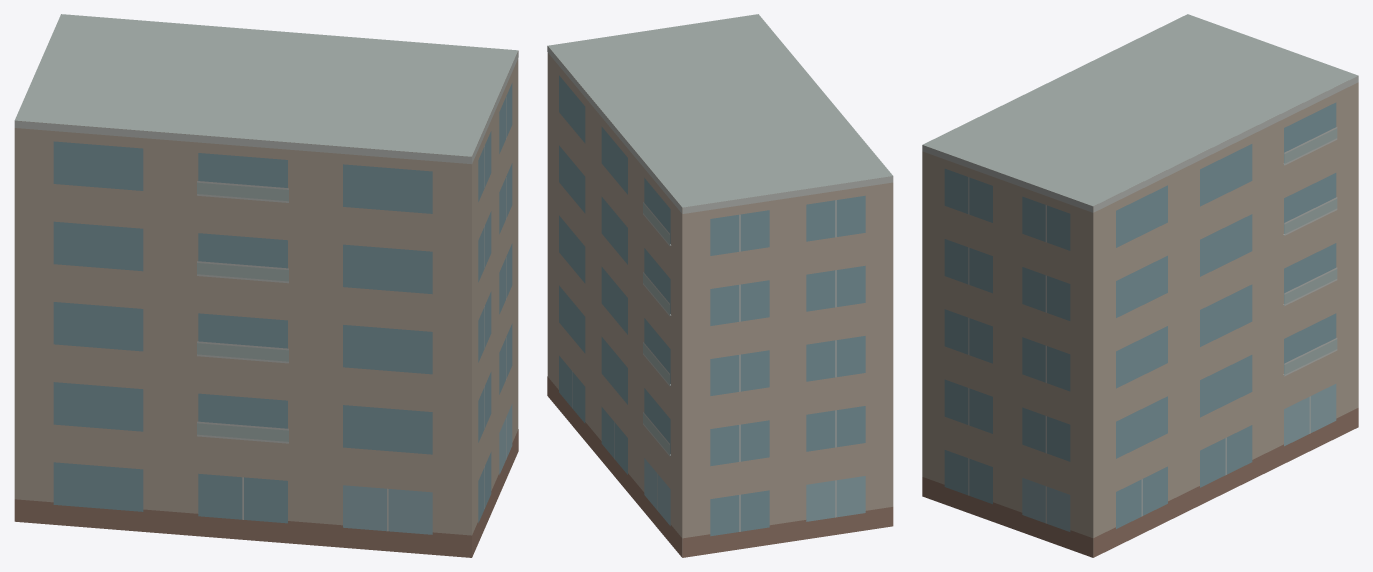
The model's file is survey-upis-32849473.glb.
3 views of the same model, side by side, from view 1: azimuth 30°, elevation 25°; view 2: azimuth 150°, elevation 25°; view 3: azimuth 270°, elevation 25° (orthographic). The views are drawn at different scales.
Parts seen in each view (by area): view 1: survey-upis-32849473.tmp; view 2: survey-upis-32849473.tmp; view 3: survey-upis-32849473.tmp.
Part boxes in pixels (x1,y1,x2,y2): survey-upis-32849473.tmp: (14,14,518,557); survey-upis-32849473.tmp: (547,14,893,557); survey-upis-32849473.tmp: (922,14,1358,557).
Size of the model in its own units: 15.5 by 13.2 by 14.86.
